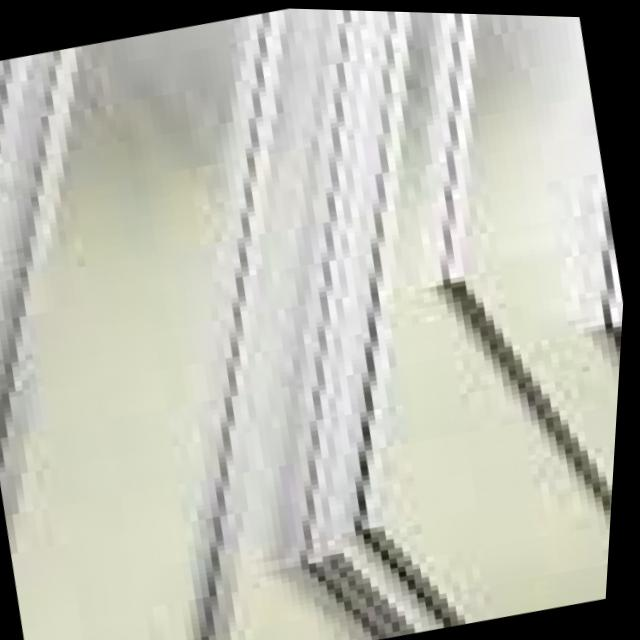metal-plates: (1, 8, 628, 640)
